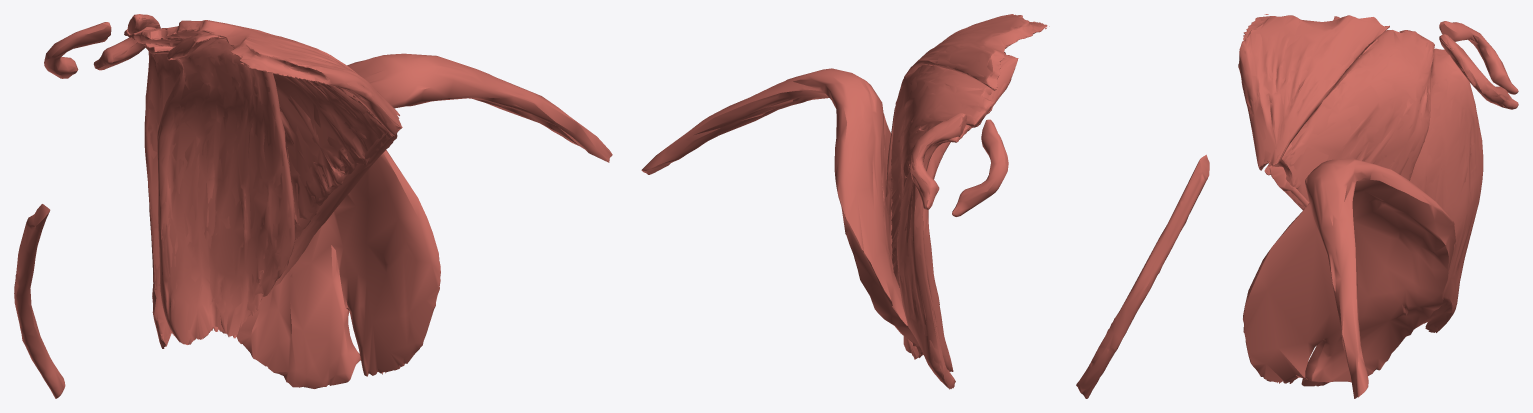
The model's file is pelvicm.glb.
3 renders of one model, left to right at view 1: azimuth 30°, elevation 25°; view 2: azimuth 150°, elevation 25°; view 3: azimuth 270°, elevation 25°, orthographic. The views are drawn at different scales.
Visible parts, largest first — view 1: left obturator internus, left pubococcygeus (2), left pubococcygeus, left iliococcygeus, left iliococcygeus (2), left coccygeus, left coccygeus (2), tendinous arch of levator ani (3), left puborectalis, left puborectalis (2), external anal sphincter (3), tendinous arch of levator ani (2) (+3 smaller); view 2: left obturator internus, tendinous arch of levator ani (3), left iliococcygeus, left iliococcygeus (2), left puborectalis (2), left puborectalis, left coccygeus, left coccygeus (2), external anal sphincter (3), left pubococcygeus (2), left pubococcygeus, external anal sphincter (2) (+2 smaller); view 3: left obturator internus, left iliococcygeus, left coccygeus, left coccygeus (2), left iliococcygeus (2), left puborectalis (2), left puborectalis, external anal sphincter (3), external anal sphincter (2), external anal sphincter, tendinous arch of levator ani, tendinous arch of levator ani (2).
Boxes of the visible parts, bbox=[...] form: left obturator internus: bbox=[236, 53, 612, 388]; left pubococcygeus (2): bbox=[157, 33, 294, 344]; left pubococcygeus: bbox=[157, 33, 294, 344]; left iliococcygeus: bbox=[134, 28, 393, 239]; left iliococcygeus (2): bbox=[135, 27, 393, 238]; left coccygeus: bbox=[166, 20, 402, 136]; left coccygeus (2): bbox=[166, 20, 401, 135]; tendinous arch of levator ani (3): bbox=[14, 204, 65, 398]; left puborectalis: bbox=[124, 27, 263, 348]; left puborectalis (2): bbox=[124, 27, 262, 348]; external anal sphincter (3): bbox=[44, 22, 111, 78]; tendinous arch of levator ani (2): bbox=[268, 131, 397, 294]; left obturator internus: bbox=[641, 68, 923, 359]; tendinous arch of levator ani (3): bbox=[1076, 154, 1209, 398]; left iliococcygeus: bbox=[891, 64, 994, 283]; left iliococcygeus (2): bbox=[891, 64, 994, 287]; left puborectalis (2): bbox=[897, 121, 981, 387]; left puborectalis: bbox=[897, 120, 982, 389]; left coccygeus: bbox=[904, 14, 1049, 90]; left coccygeus (2): bbox=[906, 14, 1046, 89]; external anal sphincter (3): bbox=[952, 119, 1008, 216]; left pubococcygeus (2): bbox=[923, 46, 1017, 370]; left pubococcygeus: bbox=[923, 45, 1018, 371]; external anal sphincter (2): bbox=[910, 113, 966, 209]; left obturator internus: bbox=[1243, 159, 1455, 398]; left iliococcygeus: bbox=[1264, 30, 1434, 209]; left coccygeus: bbox=[1238, 14, 1389, 170]; left coccygeus (2): bbox=[1238, 15, 1389, 169]; left iliococcygeus (2): bbox=[1265, 30, 1434, 208]; left puborectalis (2): bbox=[1410, 49, 1483, 331]; left puborectalis: bbox=[1410, 48, 1482, 332]; external anal sphincter (3): bbox=[1439, 21, 1518, 94]; external anal sphincter (2): bbox=[1439, 34, 1518, 108]; external anal sphincter: bbox=[1439, 34, 1518, 109]; tendinous arch of levator ani: bbox=[1269, 166, 1309, 210]; tendinous arch of levator ani (2): bbox=[1270, 167, 1307, 210].
Bounding box in the file's own units: 168 × 98.34 × 75.08.
